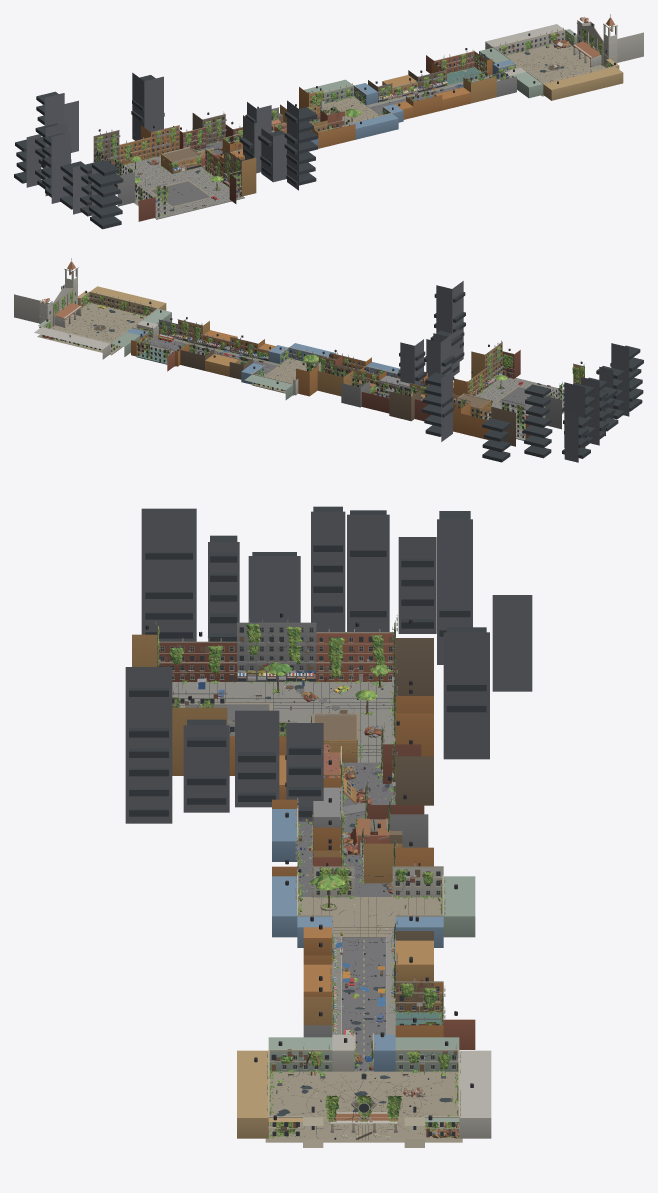
The model's file is route.glb.
3 views of the same model, one above another, from view 1: azimuth 30°, elevation 25°; view 2: azimuth 150°, elevation 25°; view 3: azimuth 270°, elevation 25° (orthographic). The views are drawn at different scales.
Visible parts, largest first — view 1: backdrop_square, route_square_buildings, route_street_buildings, route_arena_buildings, route_square_ground, route_alley_buildings, route_chapel_square, route_cathedral, route_arena_ground, route_lane, route_store, route_street_ground (+2 smaller); view 2: backdrop_square, route_street_buildings, route_square_buildings, route_alley_buildings, route_arena_buildings, route_chapel_square, route_arena_ground, route_cathedral, route_square_ground, route_street_ground, route_lane, route_street_props (+1 smaller); view 3: backdrop_square, route_square_buildings, route_chapel_square, route_arena_buildings, route_street_buildings, route_arena_ground, route_alley_buildings, route_square_ground, route_street_ground, route_alley_ground, route_cathedral, route_lane (+4 smaller).
Boxes of the visible parts, x1,y1,x2,y2 form: backdrop_square: (14,72,317,229); route_square_buildings: (93,125,256,221); route_street_buildings: (368,48,525,119); route_arena_buildings: (479,24,623,100); route_square_ground: (116,156,244,219); route_alley_buildings: (173,86,344,153); route_chapel_square: (304,79,403,139); route_cathedral: (572,14,643,67); route_arena_ground: (507,43,605,96); route_lane: (202,113,355,167); route_store: (159,147,201,173); route_street_ground: (366,74,498,115); backdrop_square: (397,281,643,462); route_street_buildings: (127,317,275,379); route_square_buildings: (453,340,584,446); route_alley_buildings: (296,354,430,421); route_arena_buildings: (34,286,171,359); route_chapel_square: (241,343,336,399); route_arena_ground: (37,303,145,355); route_cathedral: (14,258,82,327); route_square_ground: (475,378,564,440); route_street_ground: (148,336,279,375); route_lane: (329,349,453,394); route_street_props: (136,333,265,372); backdrop_square: (125,506,532,823); route_square_buildings: (132,613,433,775); route_chapel_square: (272,863,475,947); route_arena_buildings: (237,1037,491,1138); route_street_buildings: (303,916,475,1071); route_arena_ground: (265,1070,462,1142); route_alley_buildings: (313,720,433,896); route_square_ground: (172,682,394,762); route_street_ground: (333,936,395,1072); route_alley_ground: (297,762,395,896); route_cathedral: (303,1050,425,1147); route_lane: (272,755,313,896).
Size of what is drawn, in the model's own units: 418 by 55.75 by 128.
